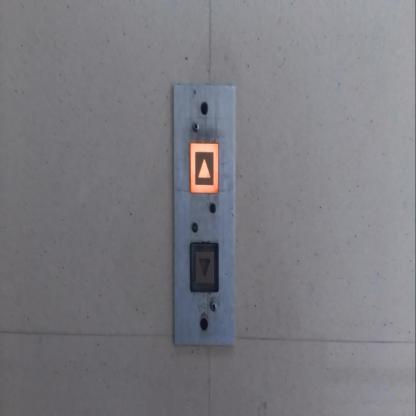down: (188, 241, 219, 294)
up: (188, 140, 219, 194)
